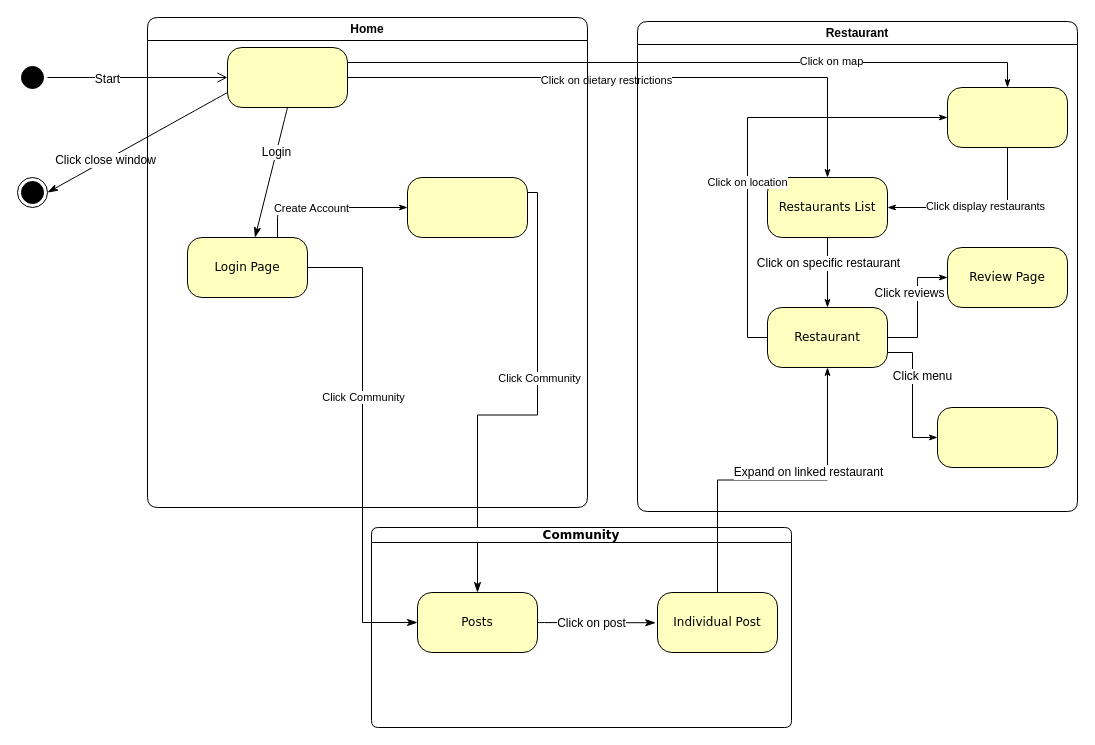
Image size: 1095x745. Some labels were removed from this diagram. The centre of each missing label's shape, as x and y in pixels:
"Account Creation Page" belongs at point 467,207.
"Home Page" belongs at point 287,77.
"Map" belongs at point 1007,117.
"Restaurant Menu" belongs at point 997,437.
